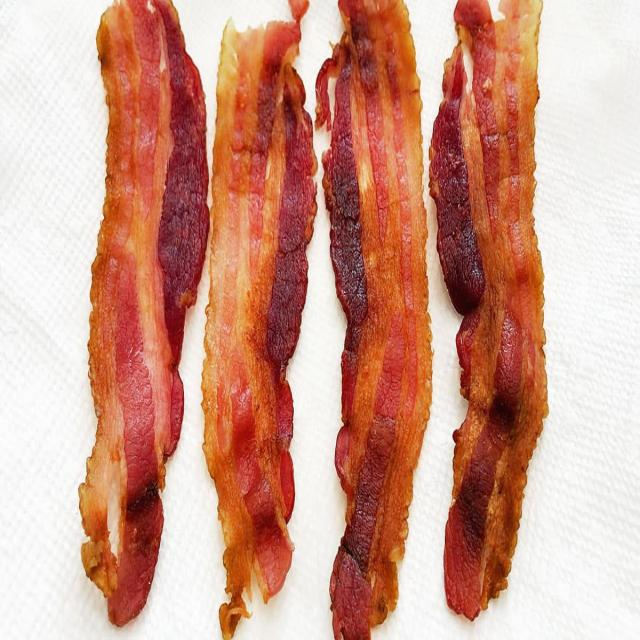Bacon: (79, 0, 209, 627), (316, 0, 431, 638), (430, 0, 548, 620), (202, 9, 315, 638)
